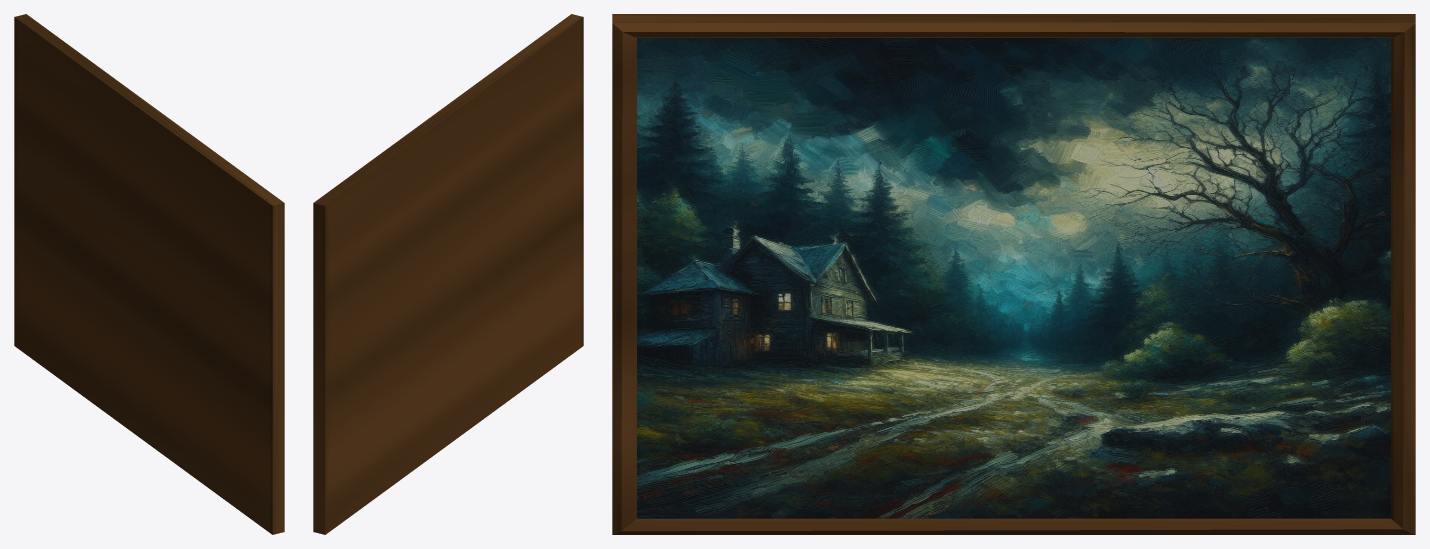
Rendered from Cuadro_ConCasa.fbx.
The picture shows the model from 3 angles, left to right: view 1: azimuth 30°, elevation 25°; view 2: azimuth 150°, elevation 25°; view 3: azimuth 270°, elevation 25°; orthographic projection. The views are drawn at different scales.
Visible parts, largest first — view 1: Cube; view 2: Cube; view 3: Cube.001, Cube.
Boxes of the visible parts, <box> form: Cube: <box>14,14,284,534</box>; Cube: <box>313,14,583,534</box>; Cube.001: <box>637,38,1390,518</box>; Cube: <box>612,14,1415,534</box>.
Bounding box in the file's own units: 8.28 × 175 × 248.
